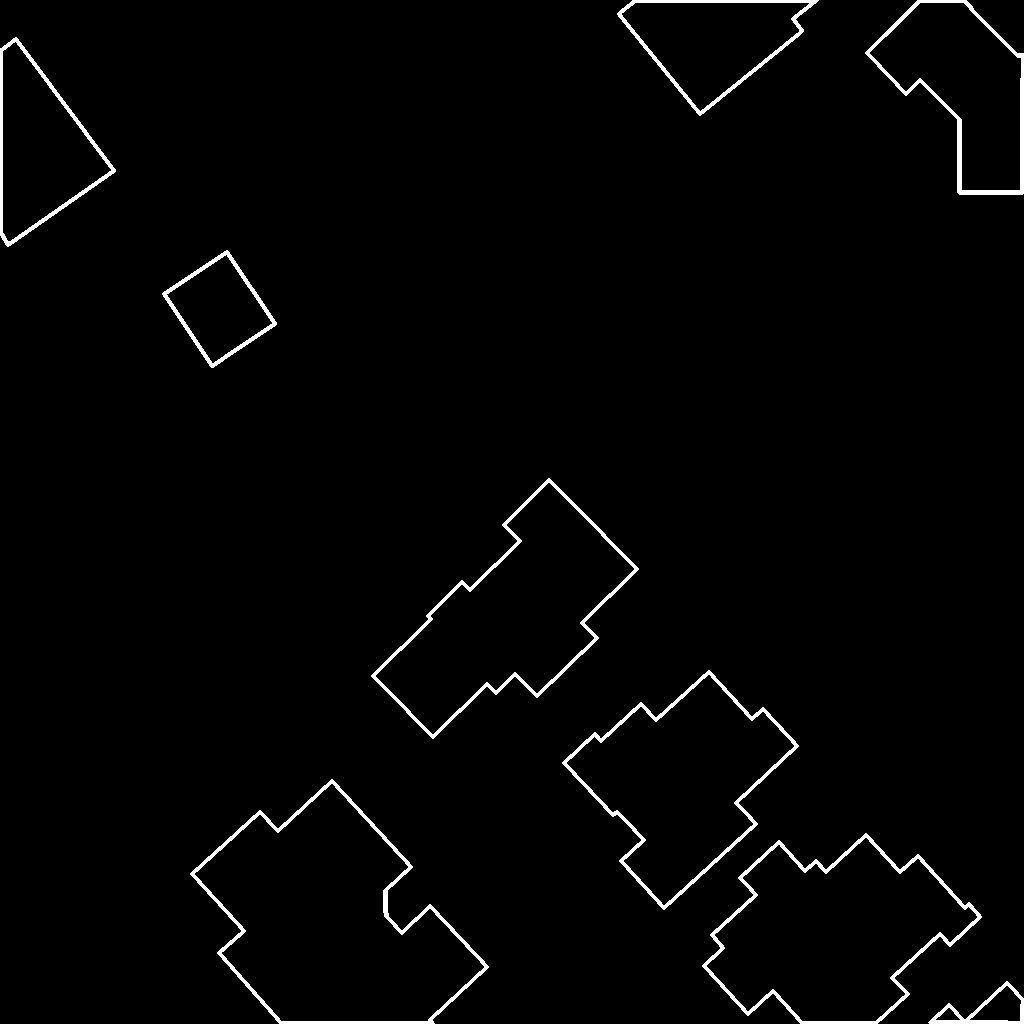building: (192, 781, 488, 1024), (373, 480, 638, 738), (564, 672, 798, 909), (704, 835, 981, 1024), (867, 0, 1024, 193), (0, 39, 115, 246), (619, 0, 818, 115), (164, 252, 276, 367), (919, 983, 1024, 1024)
